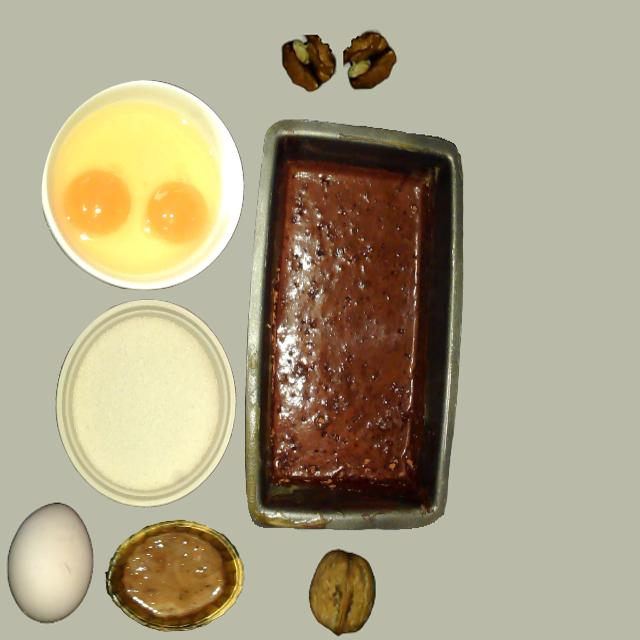Egg: (62, 169, 131, 237), (146, 182, 207, 244)
Sugar: (55, 301, 233, 508)
Walnut: (308, 550, 374, 634)
